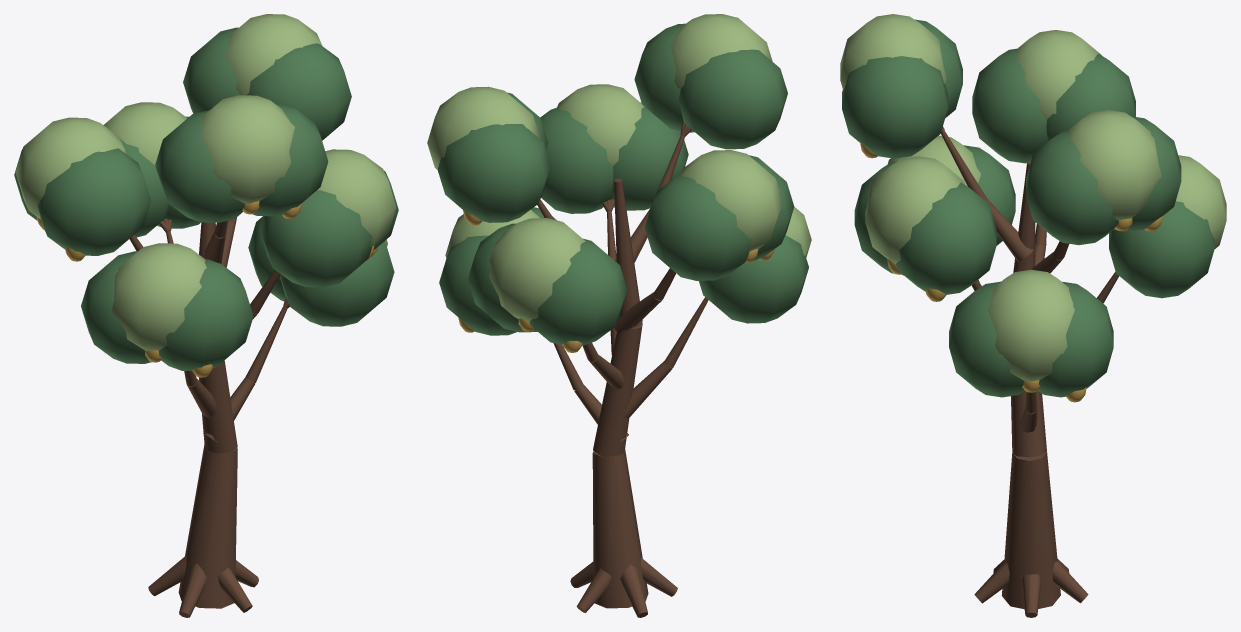
The model's file is almanac-gardens-pear-tree-d2a092a7__22045.glb.
3 renders of one model, left to right at view 1: azimuth 30°, elevation 25°; view 2: azimuth 150°, elevation 25°; view 3: azimuth 270°, elevation 25°, orthographic. The views are drawn at different scales.
Parts seen in each view (by area): view 1: pear-tree-leaf, pear-tree-sage, pear-tree-bark, pear-tree-gold; view 2: pear-tree-leaf, pear-tree-sage, pear-tree-bark, pear-tree-gold; view 3: pear-tree-leaf, pear-tree-sage, pear-tree-bark, pear-tree-gold.
Boxes of the visible parts, box(x1,y1,x2,y2) form: pear-tree-leaf: box(14, 27, 398, 370); pear-tree-sage: box(15, 14, 396, 351); pear-tree-bark: box(129, 217, 289, 617); pear-tree-gold: box(36, 201, 377, 377); pear-tree-leaf: box(437, 23, 808, 345); pear-tree-sage: box(427, 14, 811, 321); pear-tree-bark: box(537, 124, 708, 617); pear-tree-gold: box(458, 210, 774, 352); pear-tree-leaf: box(842, 19, 1214, 397); pear-tree-sage: box(840, 14, 1226, 381); pear-tree-bark: box(941, 127, 1118, 617); pear-tree-gold: box(860, 143, 1162, 402).
Size of the model in its own units: 2.33 by 3.57 by 2.22.
